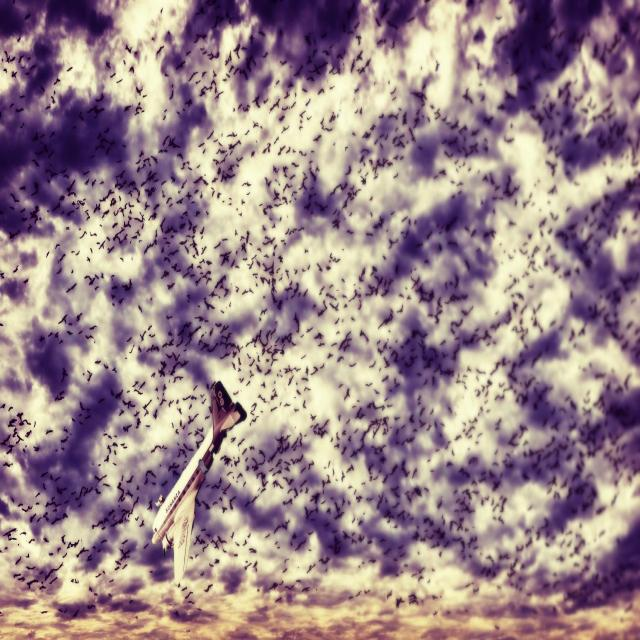airplane: (151, 379, 247, 586)
